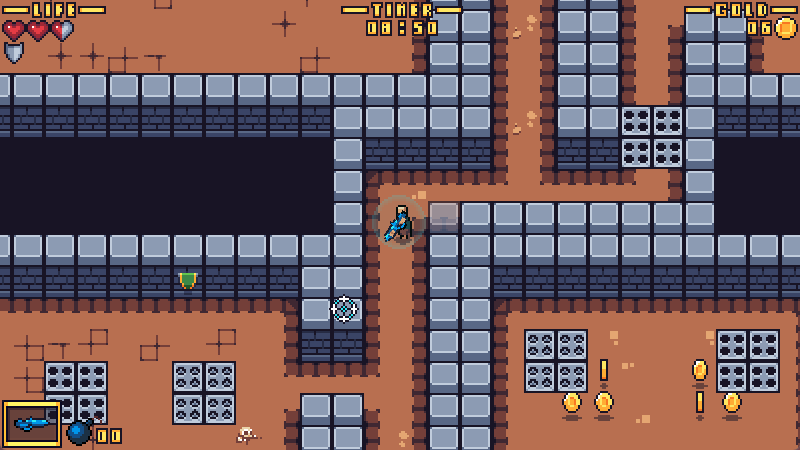aim: (330, 295, 358, 322)
gold: (594, 390, 614, 414), (562, 392, 582, 414), (690, 358, 708, 382), (722, 391, 742, 412), (598, 357, 609, 381), (695, 390, 705, 415)
gold_counter: (685, 1, 800, 40)
health-1: (1, 17, 74, 42)
player: (383, 205, 415, 245)
shield: (2, 40, 26, 64)
timer: (342, 1, 465, 36)
trap_off: (717, 331, 780, 392), (44, 364, 107, 424), (623, 107, 682, 168)
trap_warning: (173, 362, 235, 425), (526, 329, 587, 392)
